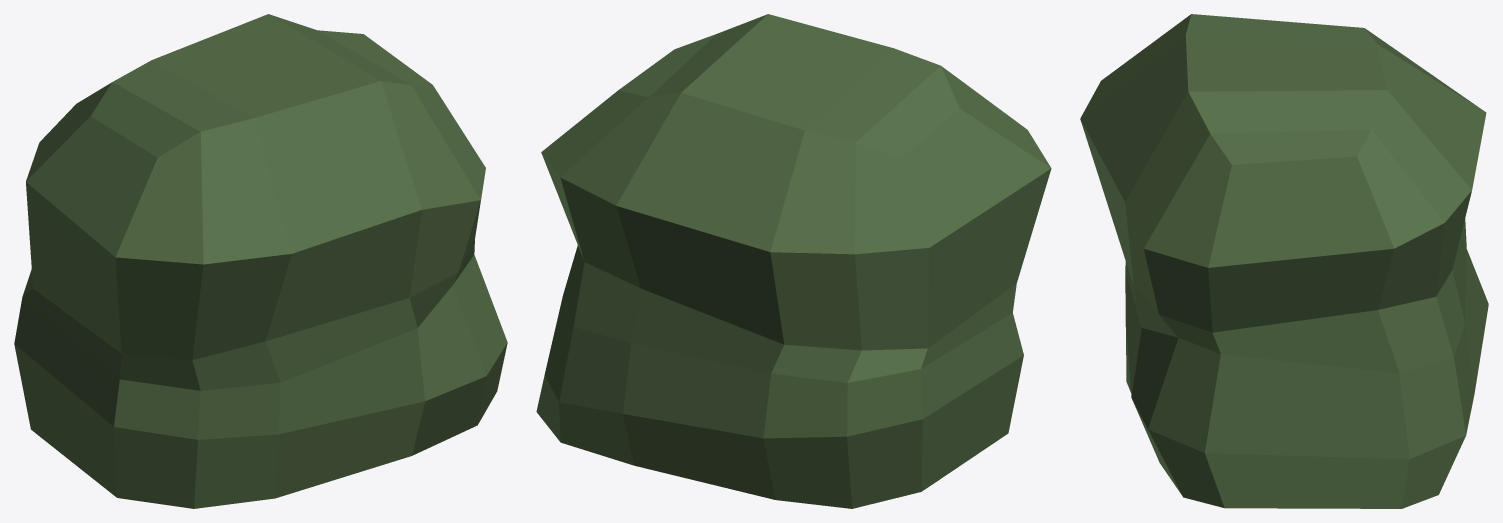
The model's file is BushBerries_2.glb.
3 views of the same model, side by side, from view 1: azimuth 30°, elevation 25°; view 2: azimuth 150°, elevation 25°; view 3: azimuth 270°, elevation 25° (orthographic). The views are drawn at different scales.
Visible parts, largest first — view 1: BushBerries_2; view 2: BushBerries_2; view 3: BushBerries_2.
Boxes of the visible parts, box(x1,y1,x2,y2) form: BushBerries_2: box(14, 14, 507, 508); BushBerries_2: box(536, 14, 1051, 508); BushBerries_2: box(1080, 14, 1488, 508).
Size of the model in its own units: 0.5923 by 0.5056 by 0.5147.
